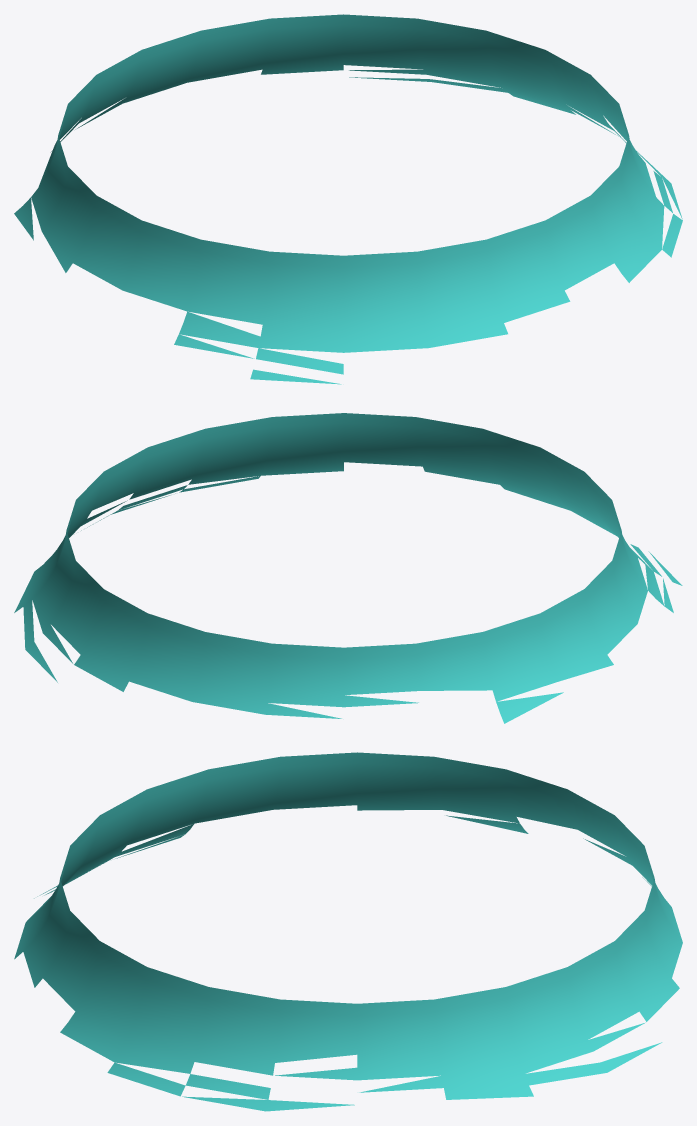
The picture shows the model from 3 angles, top to bottom: view 1: azimuth 30°, elevation 25°; view 2: azimuth 150°, elevation 25°; view 3: azimuth 270°, elevation 25°; orthographic projection. The views are drawn at different scales.
Bounding box in the file's own units: 0.4 × 0.0658 × 0.395.
